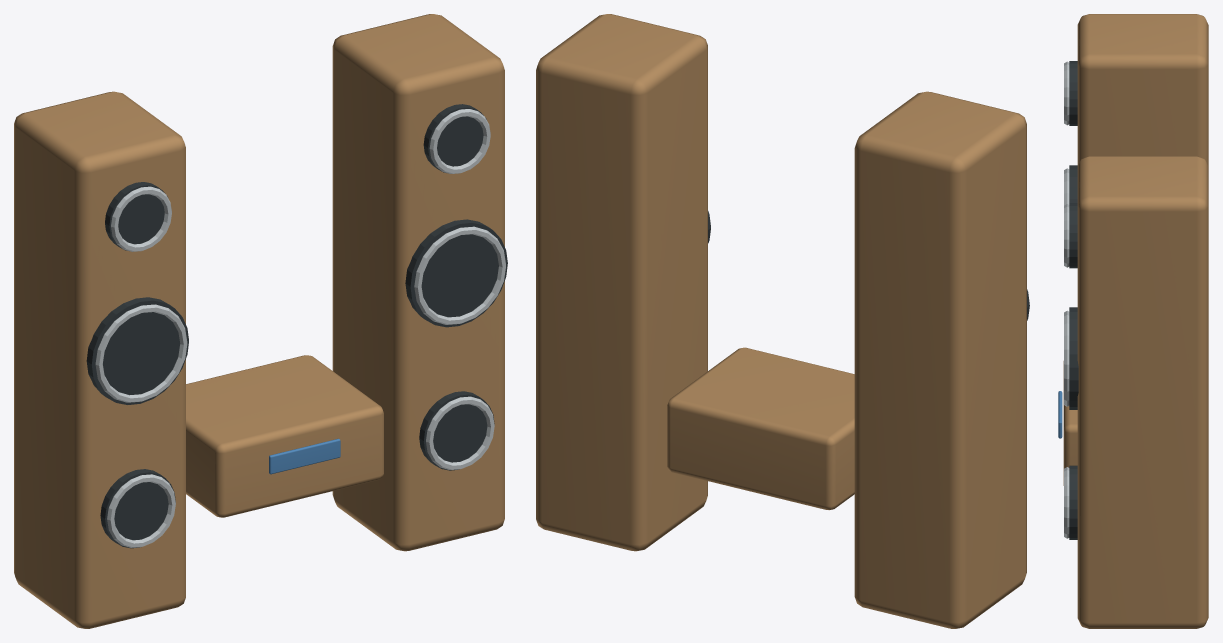
The model's file is sound_system_oak.glb.
The picture shows the model from 3 angles, left to right: view 1: azimuth 30°, elevation 25°; view 2: azimuth 150°, elevation 25°; view 3: azimuth 270°, elevation 25°; orthographic projection. The views are drawn at different scales.
Parts seen in each view (by area): view 1: floor speaker, floor speaker.001, stereo receiver, speaker driver.004, speaker driver.001, speaker driver.003, speaker driver, speaker driver.005, speaker driver.002, speaker surround.001, speaker surround.004, speaker surround (+4 smaller); view 2: floor speaker, floor speaker.001, stereo receiver; view 3: floor speaker.001, floor speaker, speaker driver.004, stereo receiver, speaker driver.003, speaker driver.005, speaker driver.002, speaker surround.004, speaker surround.003, speaker surround.005, speaker surround.002, speaker driver.001 (+1 smaller).
Boxes of the visible parts, x1=… form: floor speaker: x1=14, y1=91, x2=185, y2=628; floor speaker.001: x1=332, y1=14, x2=504, y2=551; stereo receiver: x1=186, y1=355, x2=383, y2=517; speaker driver.004: x1=405, y1=219, x2=507, y2=327; speaker driver.001: x1=86, y1=297, x2=188, y2=404; speaker driver.003: x1=419, y1=391, x2=494, y2=470; speaker driver: x1=100, y1=469, x2=175, y2=548; speaker driver.005: x1=423, y1=104, x2=486, y2=172; speaker driver.002: x1=105, y1=182, x2=167, y2=250; speaker surround.001: x1=95, y1=304, x2=187, y2=402; speaker surround.004: x1=414, y1=226, x2=505, y2=324; speaker surround: x1=107, y1=474, x2=175, y2=547; floor speaker: x1=854, y1=91, x2=1026, y2=628; floor speaker.001: x1=536, y1=14, x2=707, y2=551; stereo receiver: x1=667, y1=347, x2=854, y2=510; floor speaker.001: x1=1077, y1=156, x2=1208, y2=628; floor speaker: x1=1077, y1=14, x2=1208, y2=166; speaker driver.004: x1=1069, y1=307, x2=1078, y2=409; stereo receiver: x1=1063, y1=361, x2=1077, y2=485; speaker driver.003: x1=1069, y1=465, x2=1077, y2=539; speaker driver.005: x1=1069, y1=203, x2=1077, y2=268; speaker driver.002: x1=1069, y1=61, x2=1077, y2=125; speaker surround.004: x1=1064, y1=310, x2=1069, y2=406; speaker surround.003: x1=1064, y1=467, x2=1069, y2=538; speaker surround.005: x1=1064, y1=204, x2=1069, y2=267; speaker surround.002: x1=1064, y1=61, x2=1069, y2=125; speaker driver.001: x1=1069, y1=165, x2=1077, y2=203.
Size of the model in its own units: 0.97 by 1.02 by 0.321.
